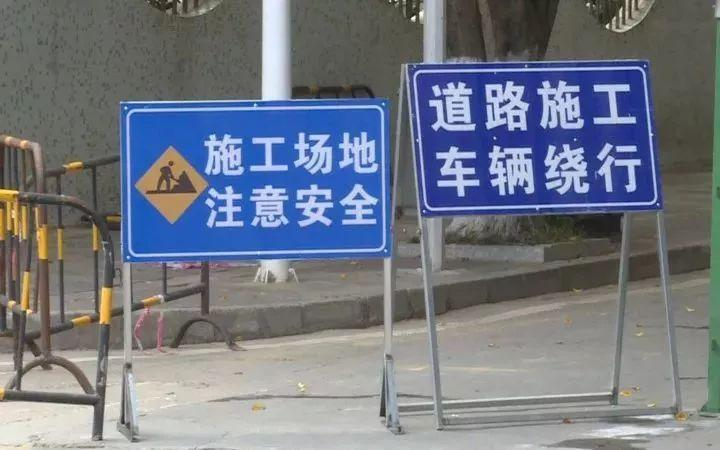sign: (121, 105, 389, 257), (408, 66, 670, 213)
